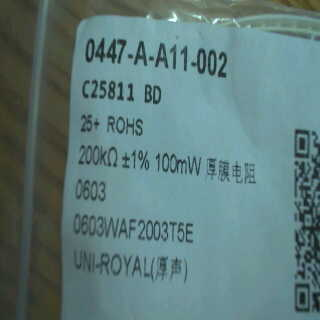200kR: (77, 140, 118, 171)
